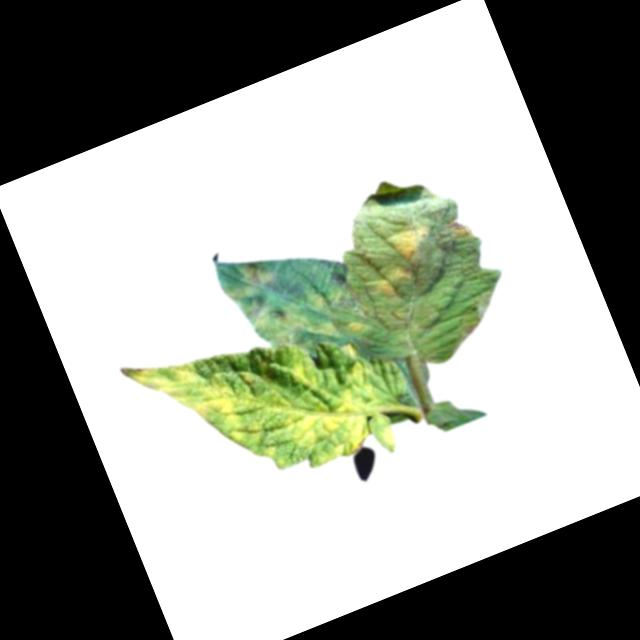Leaf_Mold: (120, 321, 295, 512), (217, 228, 372, 378), (258, 333, 396, 473), (384, 219, 436, 268), (370, 264, 418, 305), (445, 215, 476, 243)
